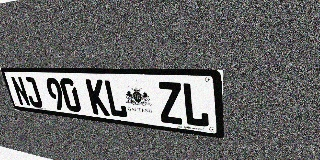0: (59, 78, 82, 113)
9: (44, 77, 67, 111)
J: (22, 77, 44, 108)
K: (85, 79, 110, 116)
L: (181, 82, 210, 128), (103, 80, 128, 118)
N: (10, 76, 31, 107)
Z: (157, 82, 184, 125)
